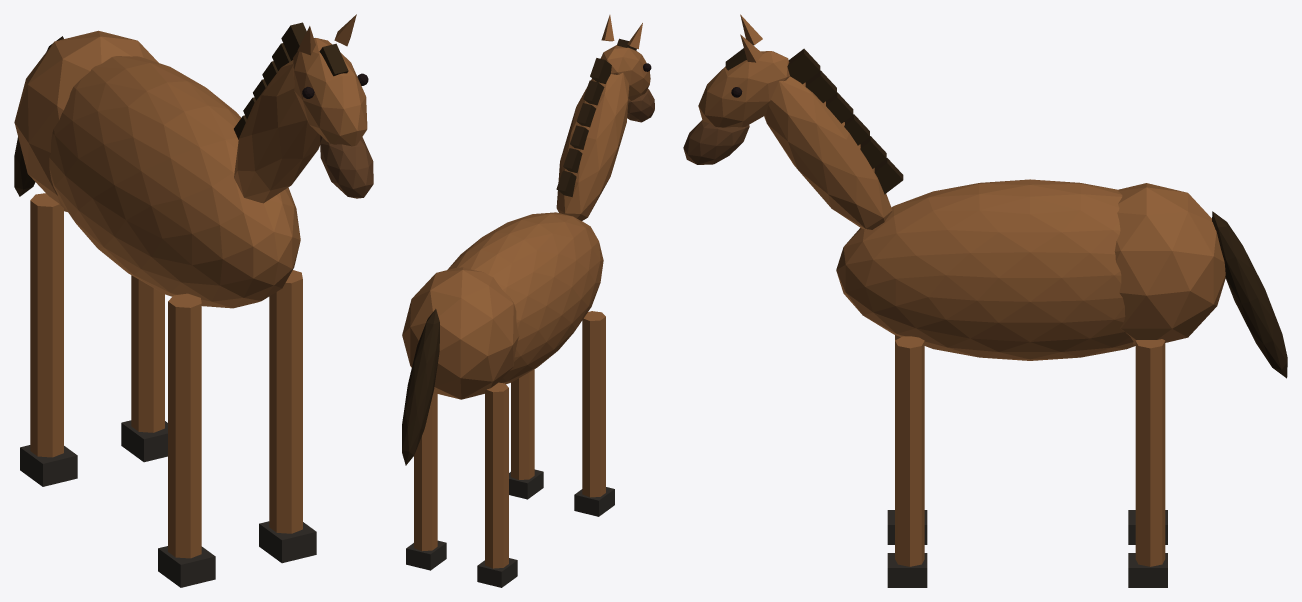
File: horse.glb
The picture shows the model from 3 angles, left to right: view 1: azimuth 30°, elevation 25°; view 2: azimuth 150°, elevation 25°; view 3: azimuth 270°, elevation 25°; orthographic projection. The views are drawn at different scales.
Visible parts, largest first — view 1: body, leg_FR_shaft, leg_BR_shaft, leg_FL_shaft, rump, neck, skull, leg_BL_shaft, muzzle, leg_FR_hoof, leg_FL_hoof, leg_BR_hoof (+4 smaller); view 2: body, rump, neck, leg_FR_shaft, leg_BR_shaft, tail_hair, leg_BL_shaft, leg_FL_shaft, skull, leg_BL_hoof, leg_FR_hoof, leg_BR_hoof (+6 smaller); view 3: body, rump, neck, leg_BL_shaft, leg_FL_shaft, skull, tail_hair, muzzle, leg_FL_hoof, leg_BL_hoof.
Boxes of the visible parts, <box> form: body: <box>49,56,300,308</box>; leg_FR_shaft: <box>168,293,201,558</box>; leg_BR_shaft: <box>30,193,63,457</box>; leg_FL_shaft: <box>269,270,302,533</box>; rump: <box>14,30,158,211</box>; neck: <box>234,60,320,203</box>; skull: <box>293,38,367,146</box>; leg_BL_shaft: <box>131,275,164,432</box>; muzzle: <box>320,135,373,198</box>; leg_FR_hoof: <box>158,546,215,587</box>; leg_FL_hoof: <box>259,521,316,563</box>; leg_BR_hoof: <box>20,445,77,486</box>; body: <box>447,212,603,384</box>; rump: <box>402,267,519,399</box>; neck: <box>556,73,629,220</box>; leg_FR_shaft: <box>582,311,605,497</box>; leg_BR_shaft: <box>485,382,508,568</box>; tail_hair: <box>402,309,439,465</box>; leg_BL_shaft: <box>414,393,437,551</box>; leg_FL_shaft: <box>511,369,534,479</box>; skull: <box>600,45,650,100</box>; leg_BL_hoof: <box>406,540,446,570</box>; leg_FR_hoof: <box>574,487,614,516</box>; leg_BR_hoof: <box>477,558,517,587</box>; body: <box>836,179,1135,360</box>; rump: <box>1114,183,1225,344</box>; neck: <box>764,76,892,229</box>; leg_BL_shaft: <box>1135,339,1165,566</box>; leg_FL_shaft: <box>895,336,924,566</box>; skull: <box>698,51,789,127</box>; tail_hair: <box>1212,211,1287,378</box>; muzzle: <box>683,120,749,164</box>; leg_FL_hoof: <box>887,553,927,587</box>; leg_BL_hoof: <box>1128,553,1167,587</box>.
Size of the model in its own units: 0.54 by 2.13 by 2.18.
